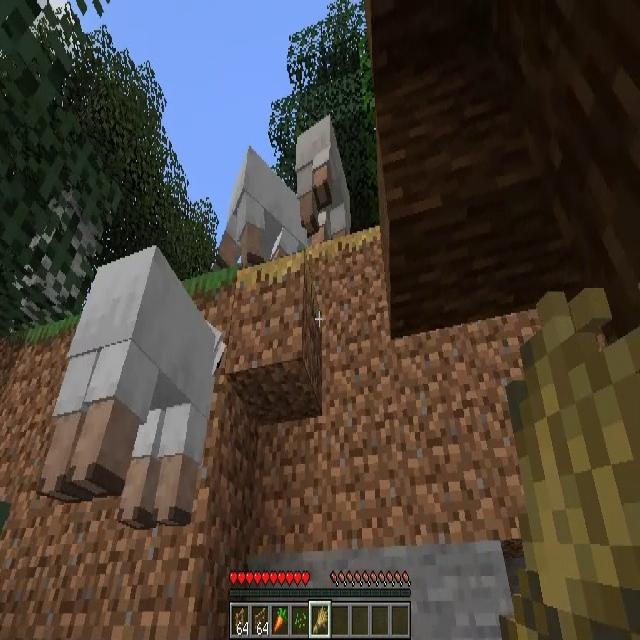sheep: (42, 245, 223, 526), (218, 146, 310, 262), (297, 115, 353, 238)
